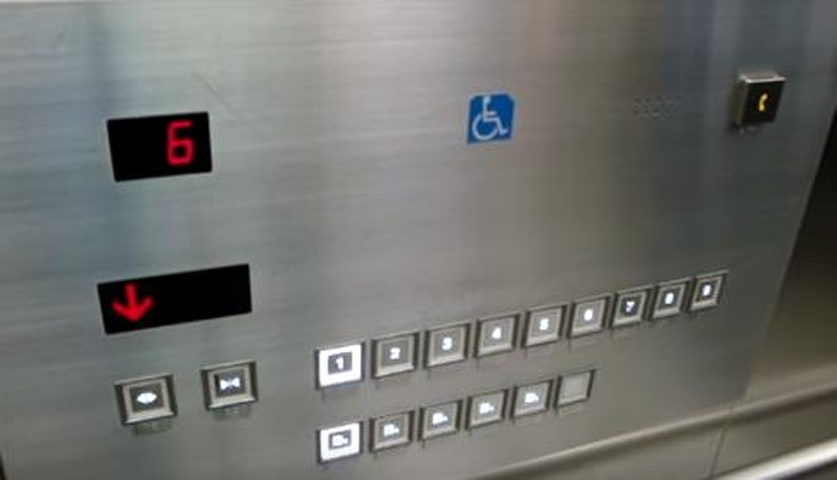1: (314, 338, 366, 389)
2: (372, 329, 421, 379)
3: (423, 320, 474, 369)
4: (474, 310, 524, 359)
5: (520, 301, 571, 351)
6: (567, 292, 616, 340)
7: (610, 284, 655, 330)
8: (650, 277, 695, 320)
9: (689, 271, 730, 312)
CH: (466, 93, 516, 142)
call: (732, 71, 788, 129)
close: (200, 359, 259, 410)
led: (96, 259, 254, 339), (100, 108, 216, 184)
open: (113, 374, 180, 427)
unknown: (315, 419, 364, 463), (369, 409, 415, 453), (510, 377, 555, 420), (420, 398, 463, 442), (465, 389, 508, 430), (555, 369, 595, 407)
